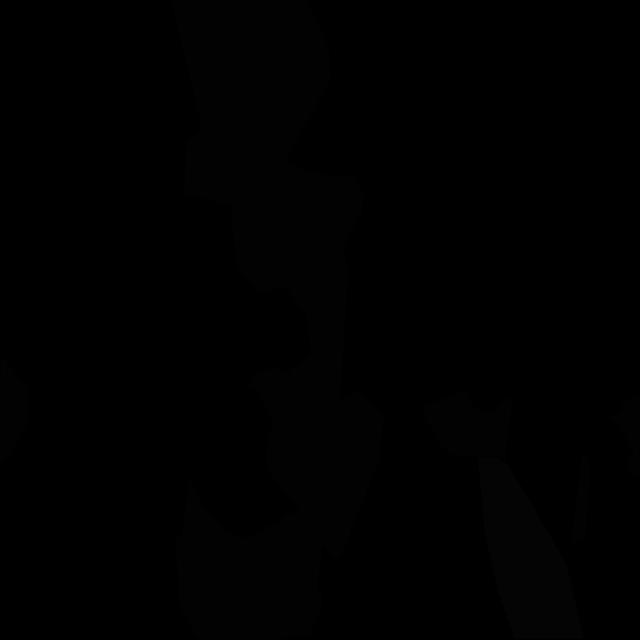cardboard: (171, 0, 364, 266), (236, 171, 348, 410), (247, 367, 384, 558), (176, 478, 323, 640), (423, 390, 513, 463), (0, 353, 30, 469), (609, 391, 640, 477), (571, 454, 590, 545)
soft_plastic: (478, 457, 584, 639)
